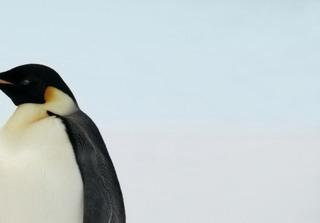Emperor Penguin: (0, 43, 169, 223)
